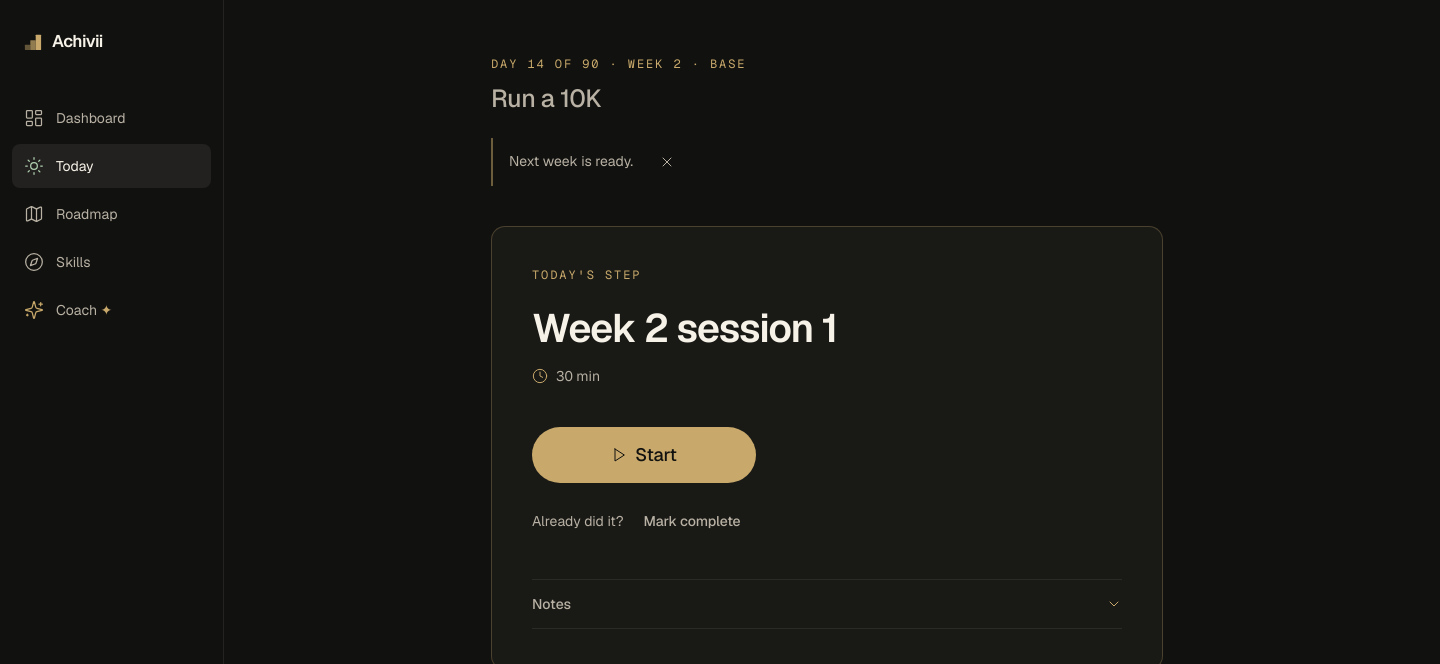
Test: getting ready, a failed close and the line once (RULE-8, RULE-9, WU-28) › after an automatic close Today shows the line once; dismissing records it
Expected: the text "Next week is ready." is shown, [509,151,633,172]
Click the button named "Dismiss" at (667, 162), box [645,140,689,184]
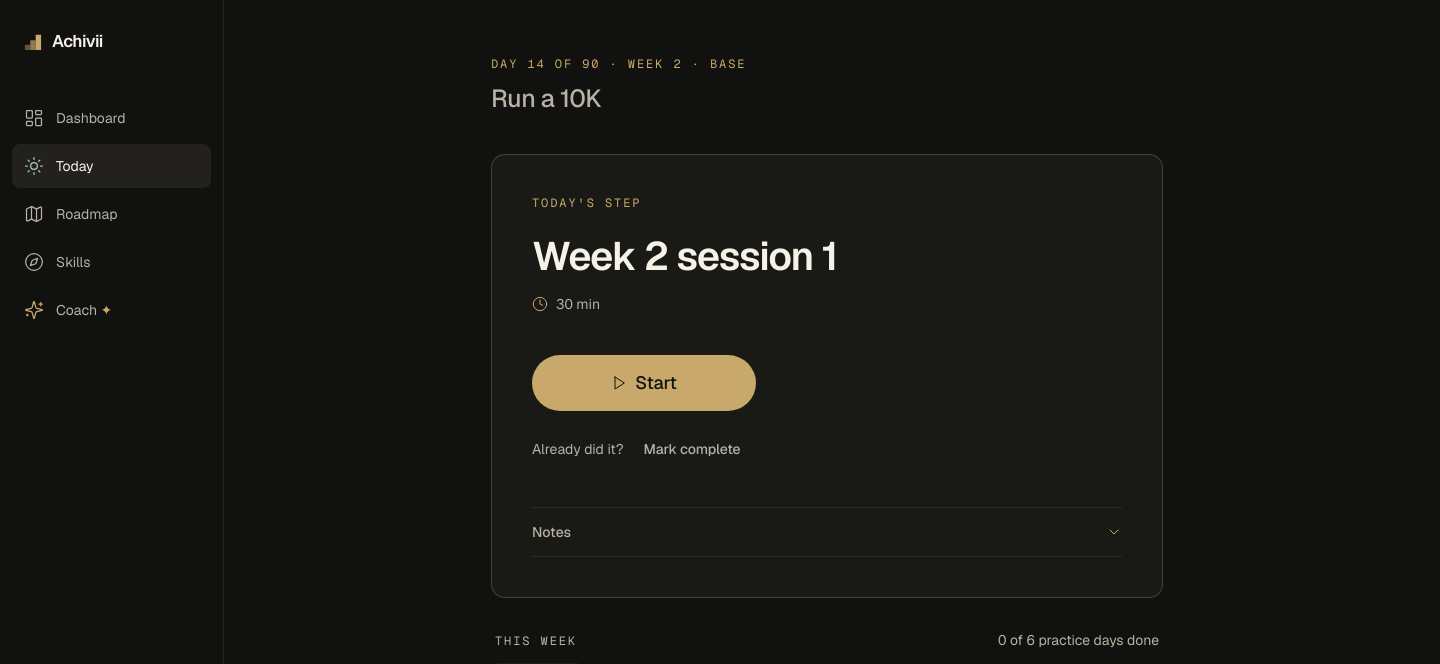
Expected: the text "Next week is ready." is gone
